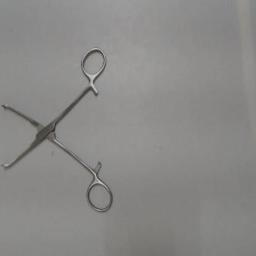Allis Tissue Forceps: (0, 43, 116, 217)
